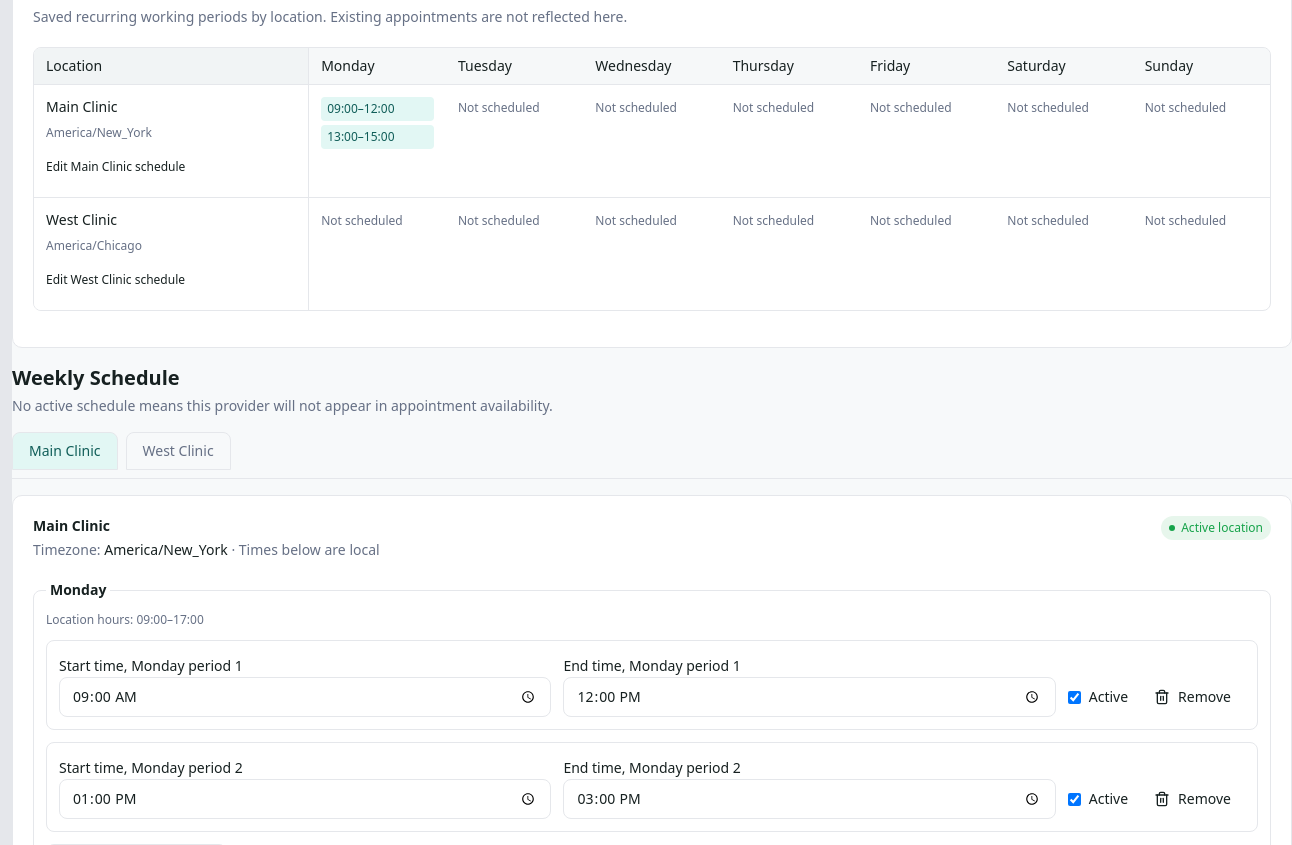
Scenario: ProviderSchedule › saving the selected location preserves another location's unsaved draft
Expected: the tab "Main Clinic" is shown, x1=12 y1=432 x2=118 y2=470
Replace the text in the time field labelled "End time, Monday period 1" with "11:45" at x=810, y=697, box x1=563 y1=677 x2=1056 y2=717
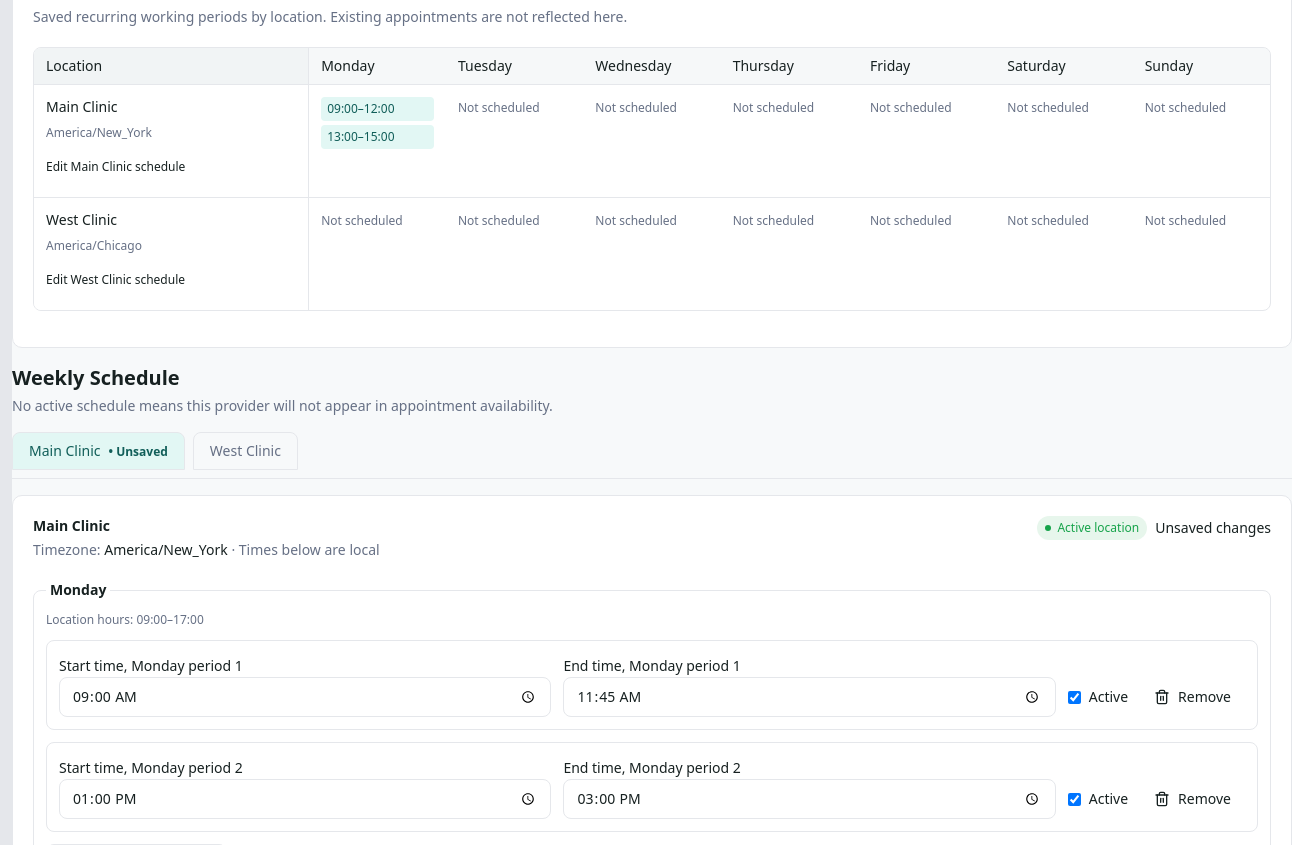
Click the tab "West Clinic".
click(245, 451)  # box x1=193 y1=432 x2=298 y2=470
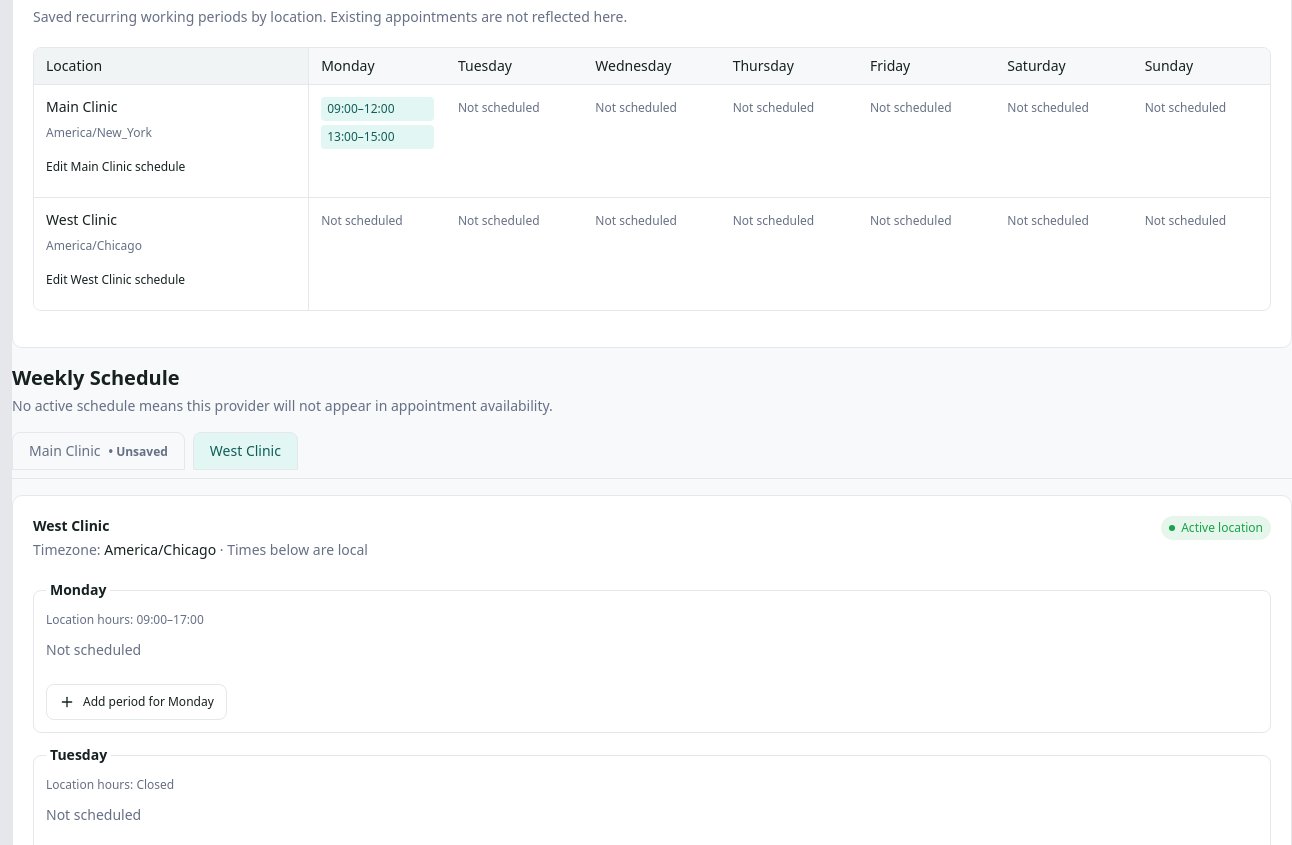
Click the button "Add period for Monday".
click(136, 702)  # box x1=46 y1=684 x2=227 y2=720
(page scrolled)
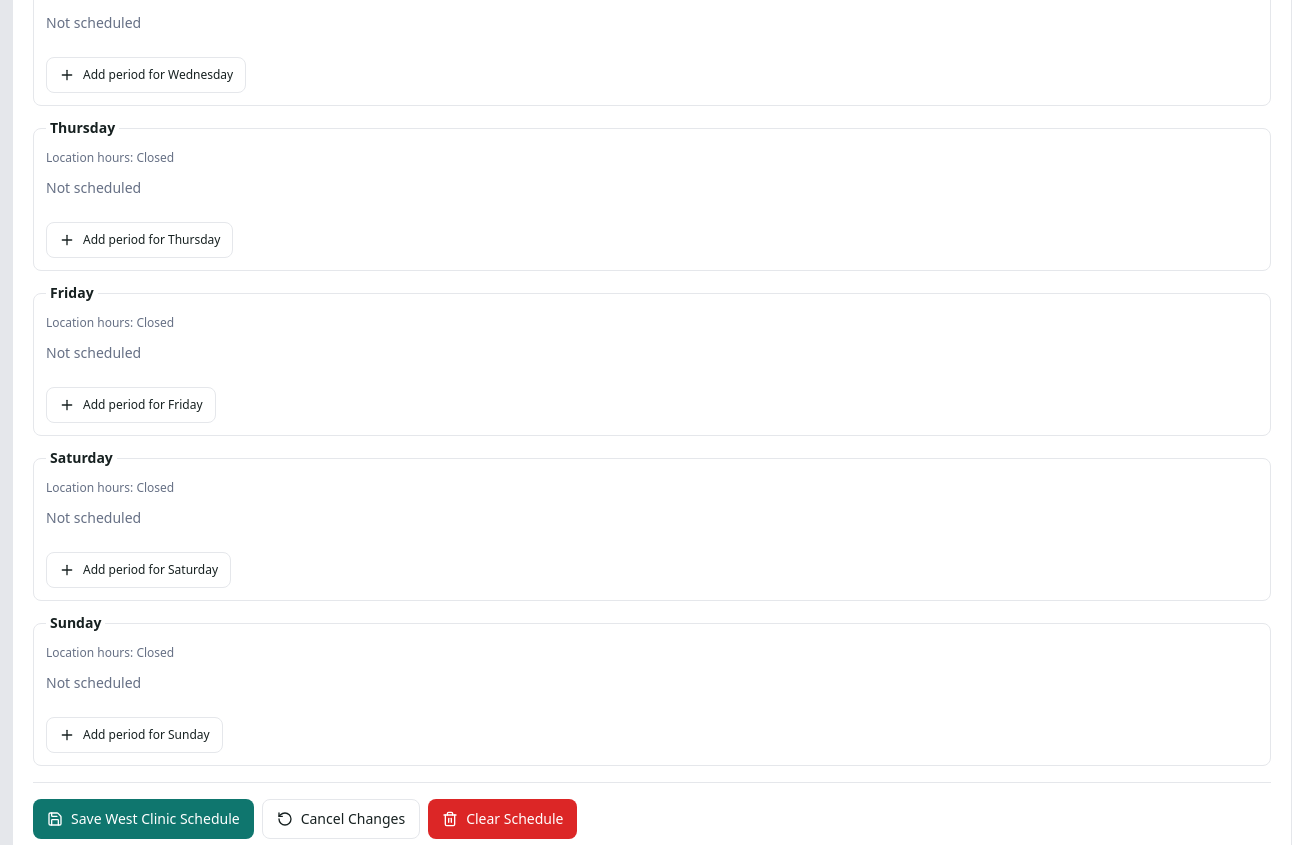
Click the button "Save West Clinic Schedule".
click(143, 819)  # box x1=33 y1=799 x2=254 y2=839
(page scrolled)
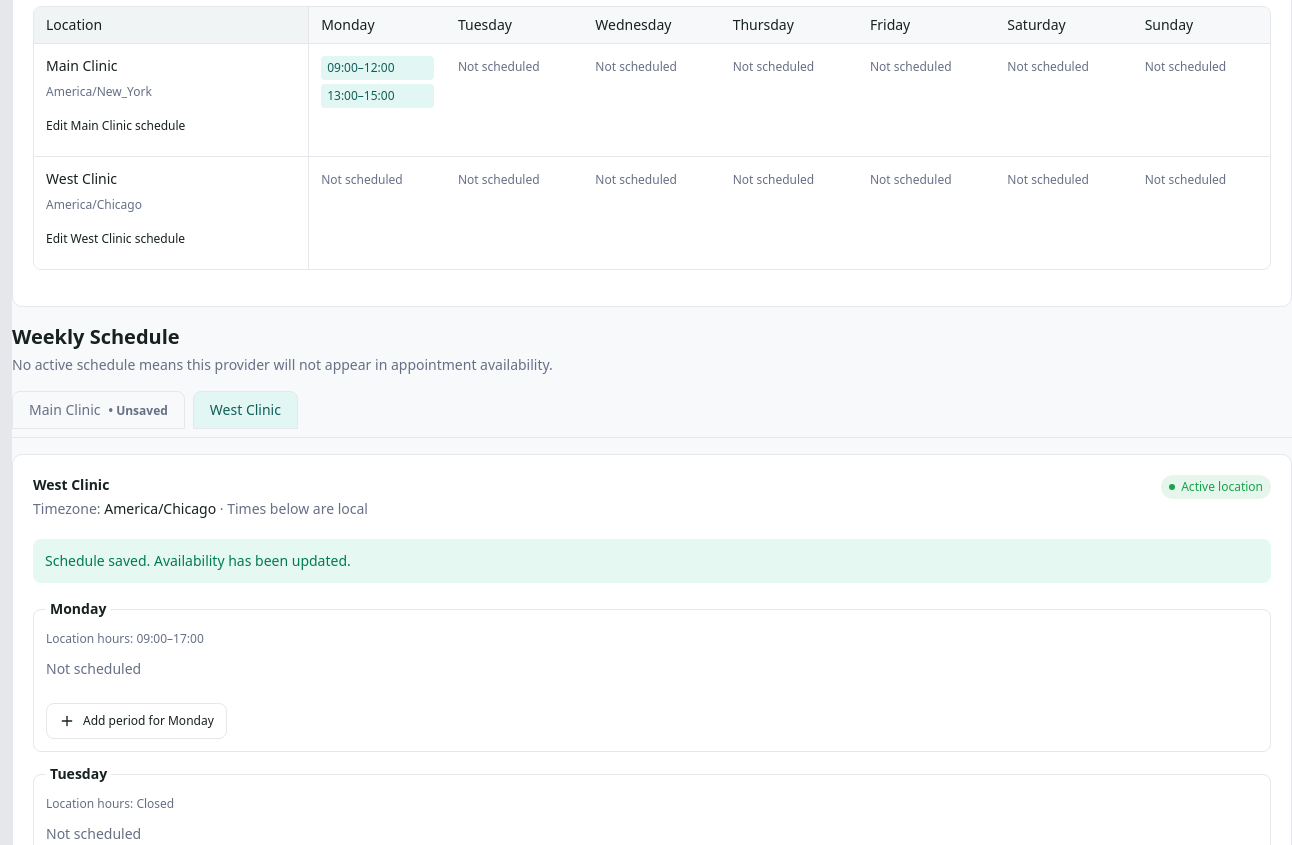
Expected: the tab "West Clinic" is shown, x1=193 y1=391 x2=298 y2=429
Result: the text "Schedule saved. Availability has been updated." is shown at x1=33 y1=539 x2=1271 y2=583
Click the tab with aria-label "Main Clinic, Unsaved changes".
click(98, 410)  # box x1=12 y1=391 x2=185 y2=429
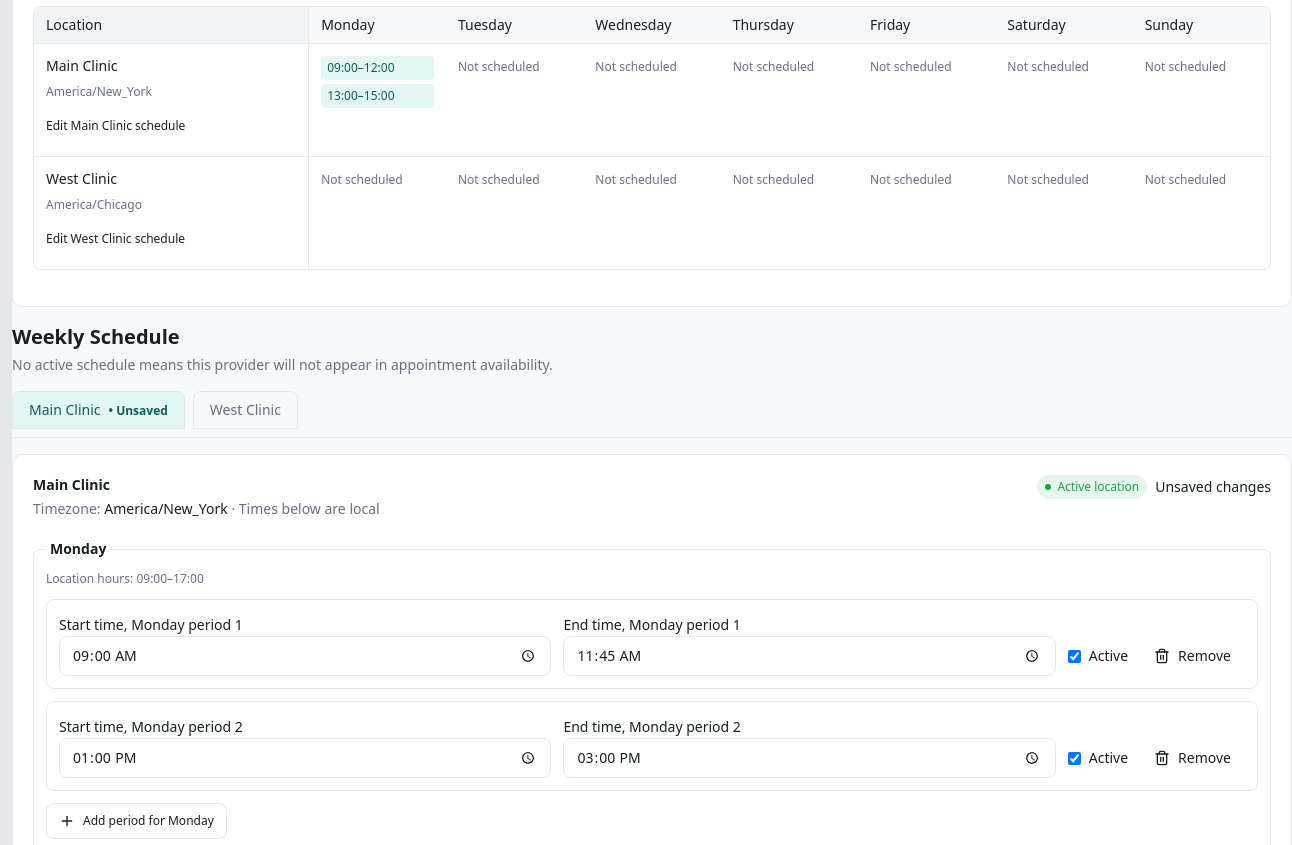
Result: the time field labelled "End time, Monday period 1" holds "11:45" at x1=563 y1=636 x2=1056 y2=676
